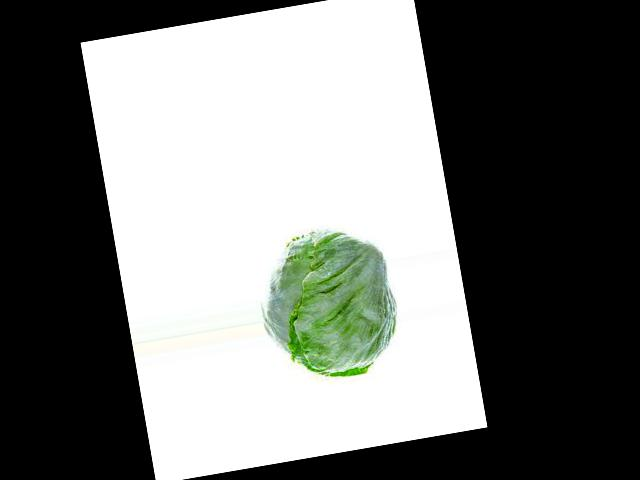lettuce: (280, 255, 397, 374)
